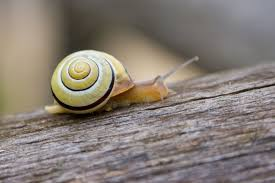snail: (39, 48, 198, 112)
